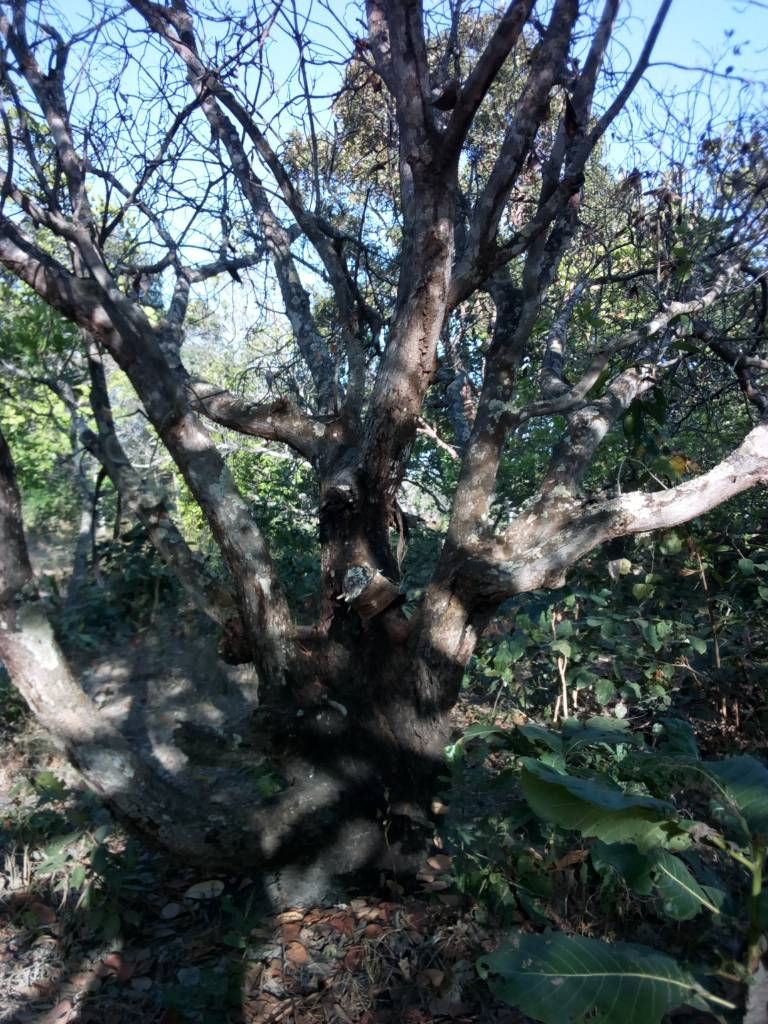Termites: (404, 232, 436, 405)
